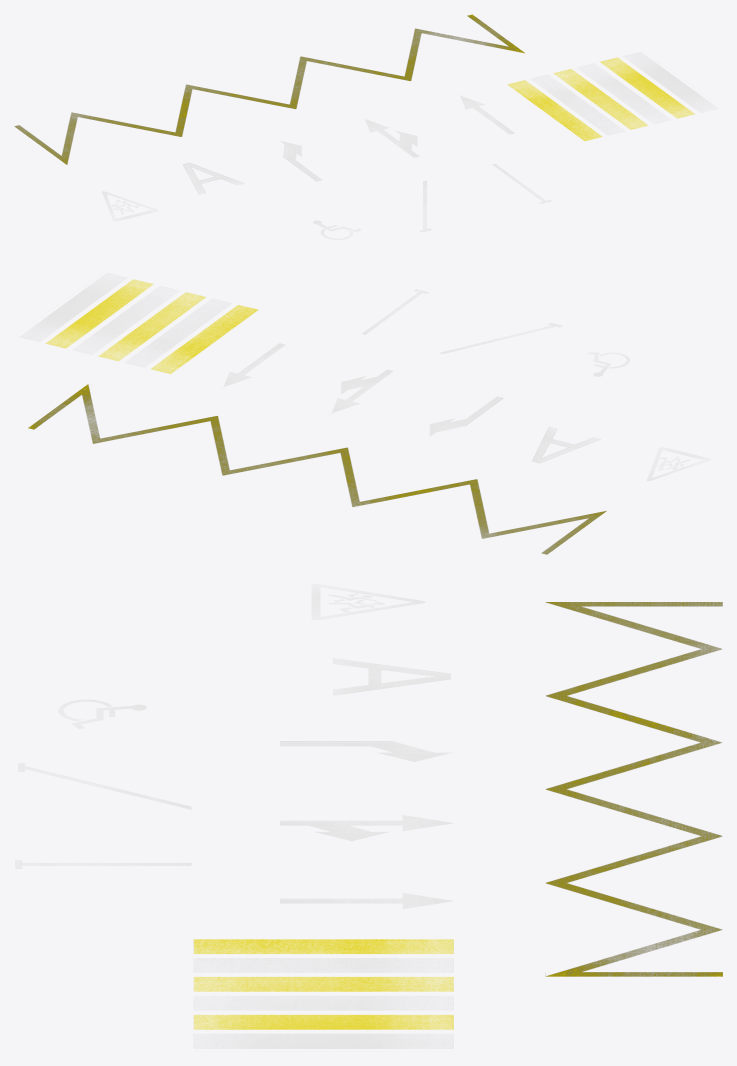
File: russian_road_sign_decals_pack.glb
The picture shows the model from 3 angles, top to bottom: view 1: azimuth 30°, elevation 25°; view 2: azimuth 150°, elevation 25°; view 3: azimuth 270°, elevation 25°; orthographic projection. The views are drawn at different scales.
Parts seen in each view (by area): view 1: Plane.006, Plane.004, Plane.001, Plane.003, Plane.005, Plane, Plane.002; view 2: Plane.006, Plane.004, Plane.001, Plane.003, Plane.005, Plane, Plane.002; view 3: Plane.006, Plane.004, Plane.001, Plane.003, Plane.005, Plane, Plane.002.
Part boxes in pixels (<box>): Plane.006: <box>507,52,717,140</box>; Plane.004: <box>14,14,524,164</box>; Plane.001: <box>365,119,419,157</box>; Plane.003: <box>183,163,244,194</box>; Plane.005: <box>102,191,157,220</box>; Plane: <box>279,140,322,181</box>; Plane.002: <box>460,96,514,134</box>; Plane.006: <box>20,273,257,373</box>; Plane.004: <box>28,384,606,554</box>; Plane.001: <box>331,369,393,413</box>; Plane.003: <box>532,427,600,462</box>; Plane.005: <box>647,447,709,481</box>; Plane: <box>429,396,503,436</box>; Plane.002: <box>223,343,285,386</box>; Plane.006: <box>193,939,453,1048</box>; Plane.004: <box>546,602,722,976</box>; Plane.001: <box>280,815,453,840</box>; Plane.003: <box>333,658,450,695</box>; Plane.005: <box>311,584,424,619</box>; Plane: <box>280,741,451,761</box>; Plane.002: <box>280,893,453,908</box>.
Bounding box in the file's own units: 26.81 × 1.05e-06 × 17.16.
10 materials, 10 textured.
